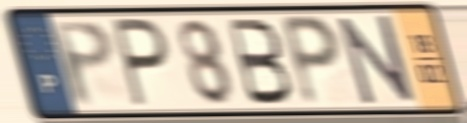8: (175, 15, 235, 109)
B: (225, 16, 296, 108)
N: (334, 12, 419, 109)
P: (277, 12, 344, 110), (48, 17, 117, 110), (109, 15, 172, 111)
